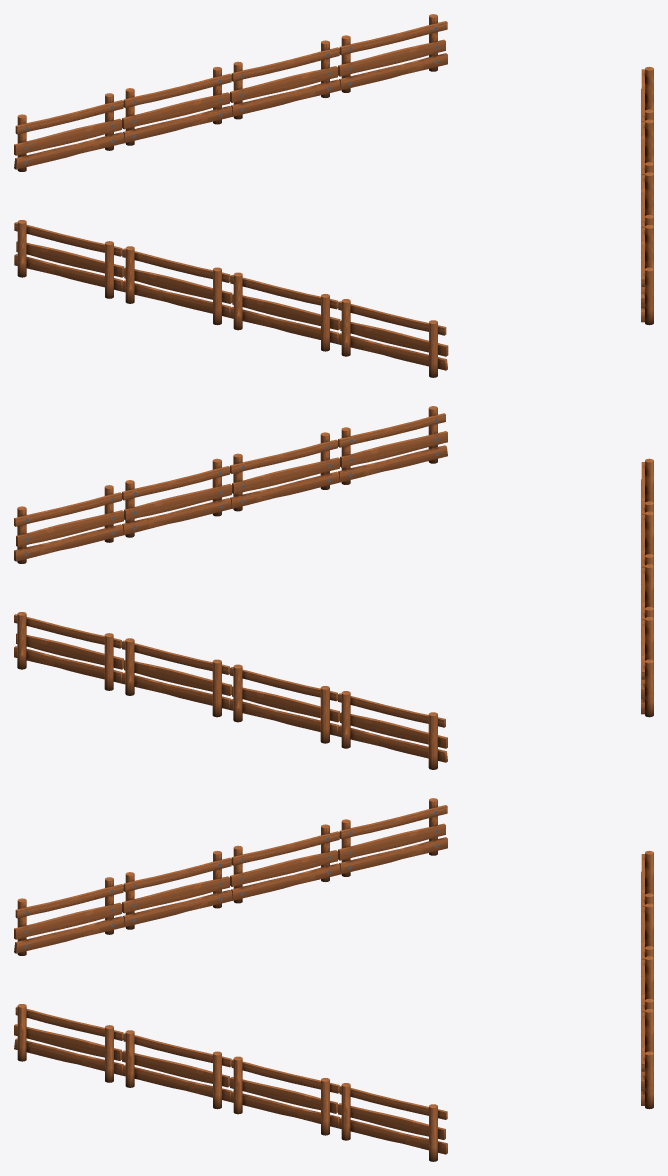
The model's file is Fences.fbx.
3 views of the same model, one above another, from view 1: azimuth 30°, elevation 25°; view 2: azimuth 150°, elevation 25°; view 3: azimuth 270°, elevation 25° (orthographic).
Visible parts, largest first — view 1: Fence TopRight.001, Fence_Bottom.001, Fence_TopLeft.001; view 2: Fence_Bottom.001, Fence_TopLeft.001, Fence TopRight.001; view 3: Fence TopRight.001, Fence_TopLeft.001, Fence_Bottom.001.
Boxes of the visible parts, <box> form: Fence TopRight.001: <box>14,220,448,377</box>; Fence_Bottom.001: <box>14,14,447,171</box>; Fence_TopLeft.001: <box>641,66,653,325</box>; Fence_Bottom.001: <box>14,612,447,769</box>; Fence_TopLeft.001: <box>14,406,447,563</box>; Fence TopRight.001: <box>641,458,653,717</box>; Fence TopRight.001: <box>14,798,447,955</box>; Fence_TopLeft.001: <box>14,1004,447,1161</box>; Fence_Bottom.001: <box>641,850,653,1109</box>.
Bounding box in the file's own units: 6552 × 531 × 5718.
